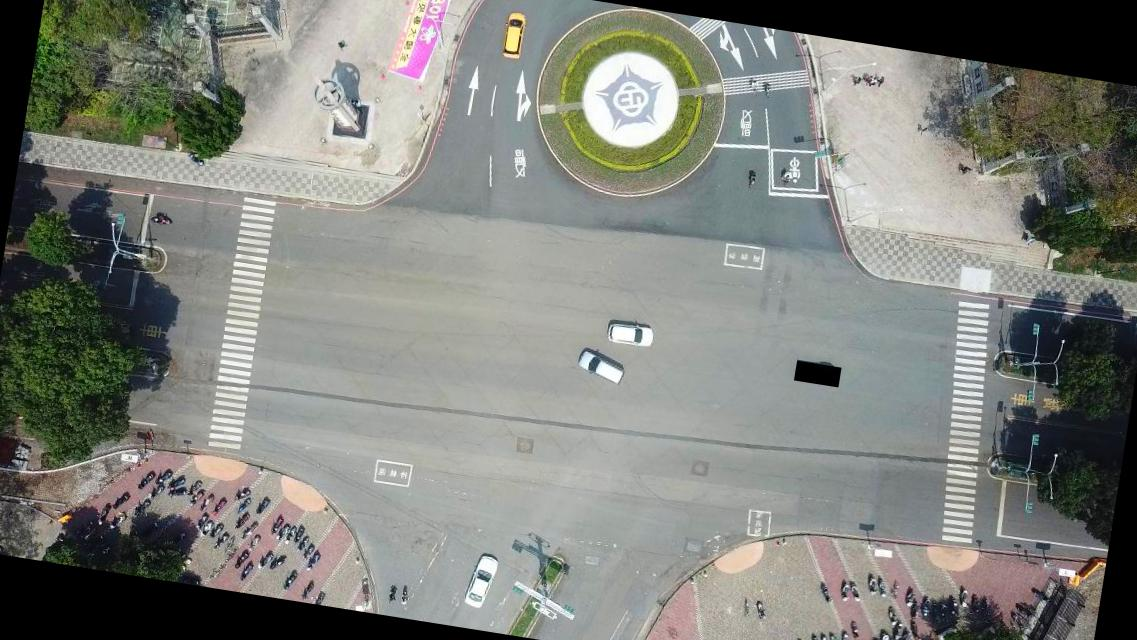vehicle: (462, 550, 501, 612), (572, 344, 629, 386), (606, 317, 655, 348), (500, 10, 528, 60)
